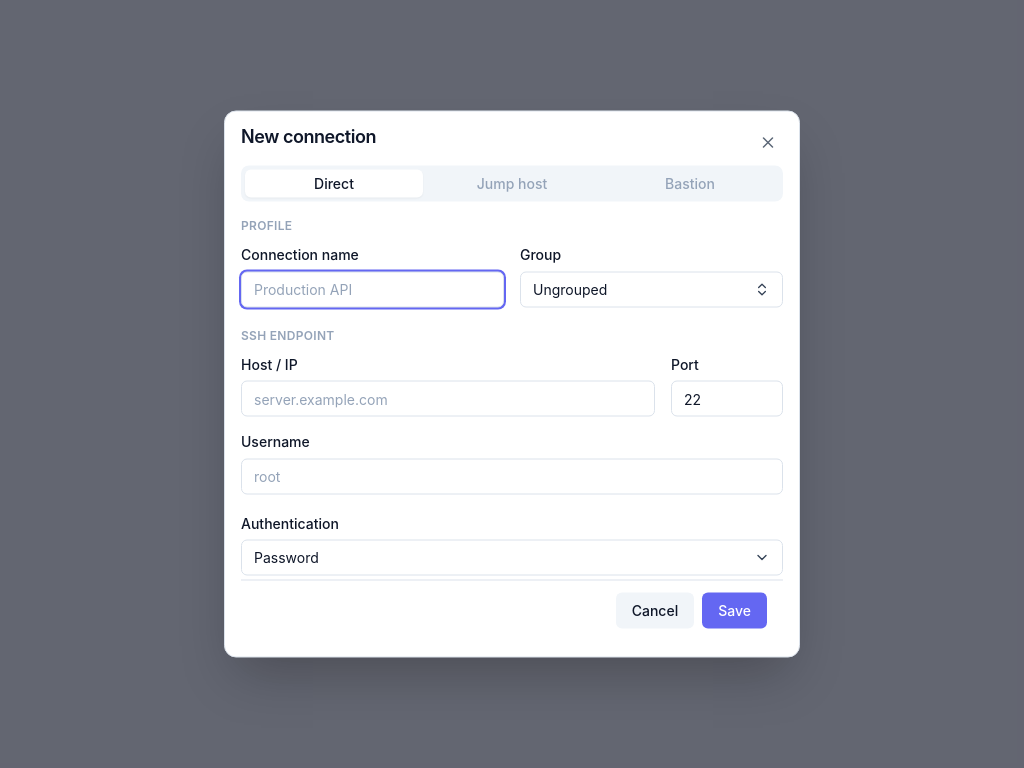
Test case: profile dialog › uses route tabs first and reports validation beside each invalid field
Expected: the dialog is shown, x1=224 y1=110 x2=800 y2=658
Step 1. Click the button "Save" → (735, 610), box x1=702 y1=592 x2=767 y2=628
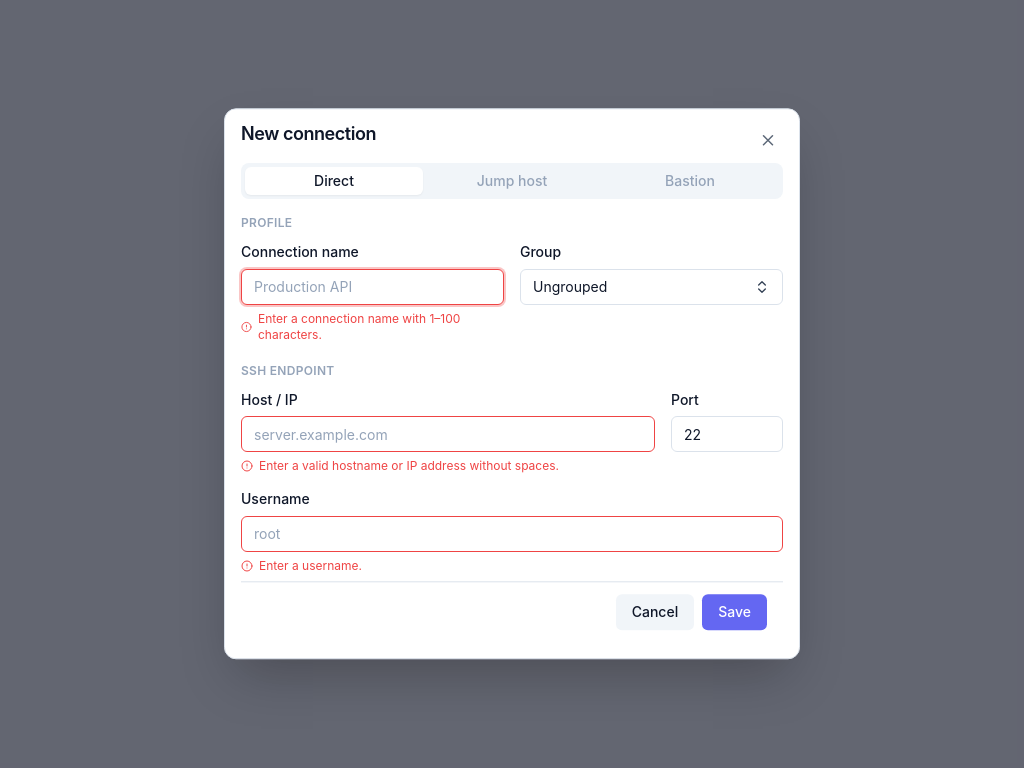
Expected: the text "Enter a connection name with 1–100 characters." is shown, x1=241 y1=311 x2=460 y2=342
Expected: the text "Enter a valid hostname or IP address without spaces." is shown, x1=241 y1=458 x2=559 y2=473
Expected: the text "Enter a username." is shown, x1=241 y1=558 x2=362 y2=573
